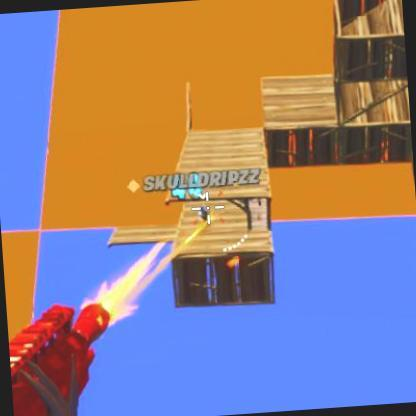person: (196, 204, 210, 223)
